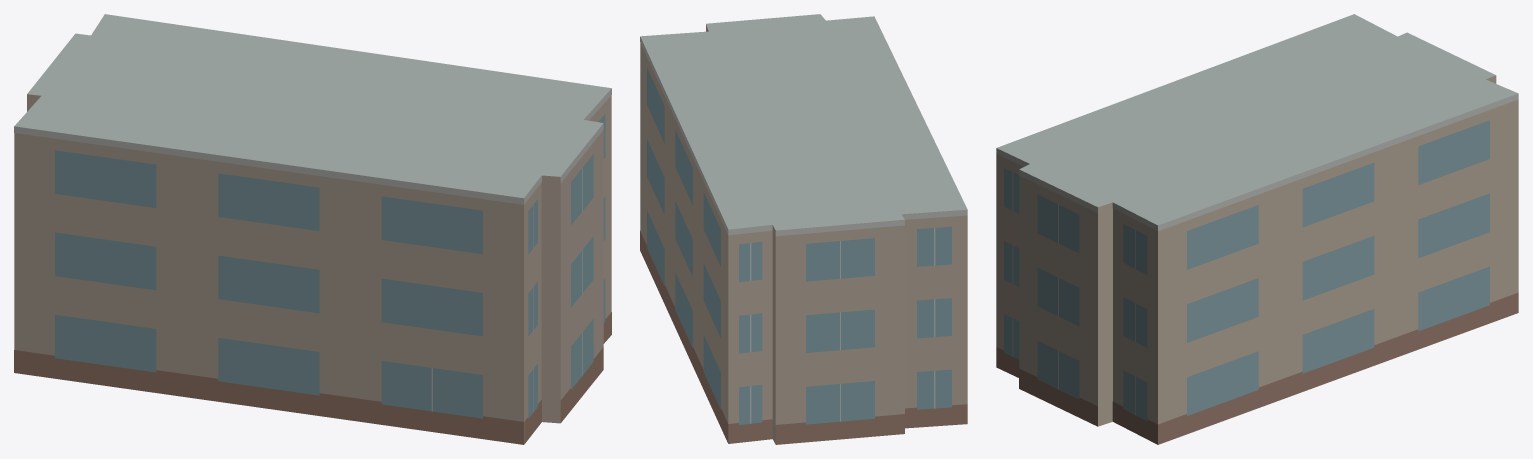
The model's file is survey-upis-32672669.glb.
3 renders of one model, left to right at view 1: azimuth 30°, elevation 25°; view 2: azimuth 150°, elevation 25°; view 3: azimuth 270°, elevation 25°, orthographic. The views are drawn at different scales.
Visible parts, largest first — view 1: survey-upis-32672669.tmp; view 2: survey-upis-32672669.tmp; view 3: survey-upis-32672669.tmp.
Part boxes in pixels (bbox=[...]): survey-upis-32672669.tmp: bbox=[14, 14, 611, 444]; survey-upis-32672669.tmp: bbox=[640, 14, 967, 444]; survey-upis-32672669.tmp: bbox=[996, 14, 1518, 444].
Bounding box in the file's own units: 18.93 × 9.15 × 19.75.
